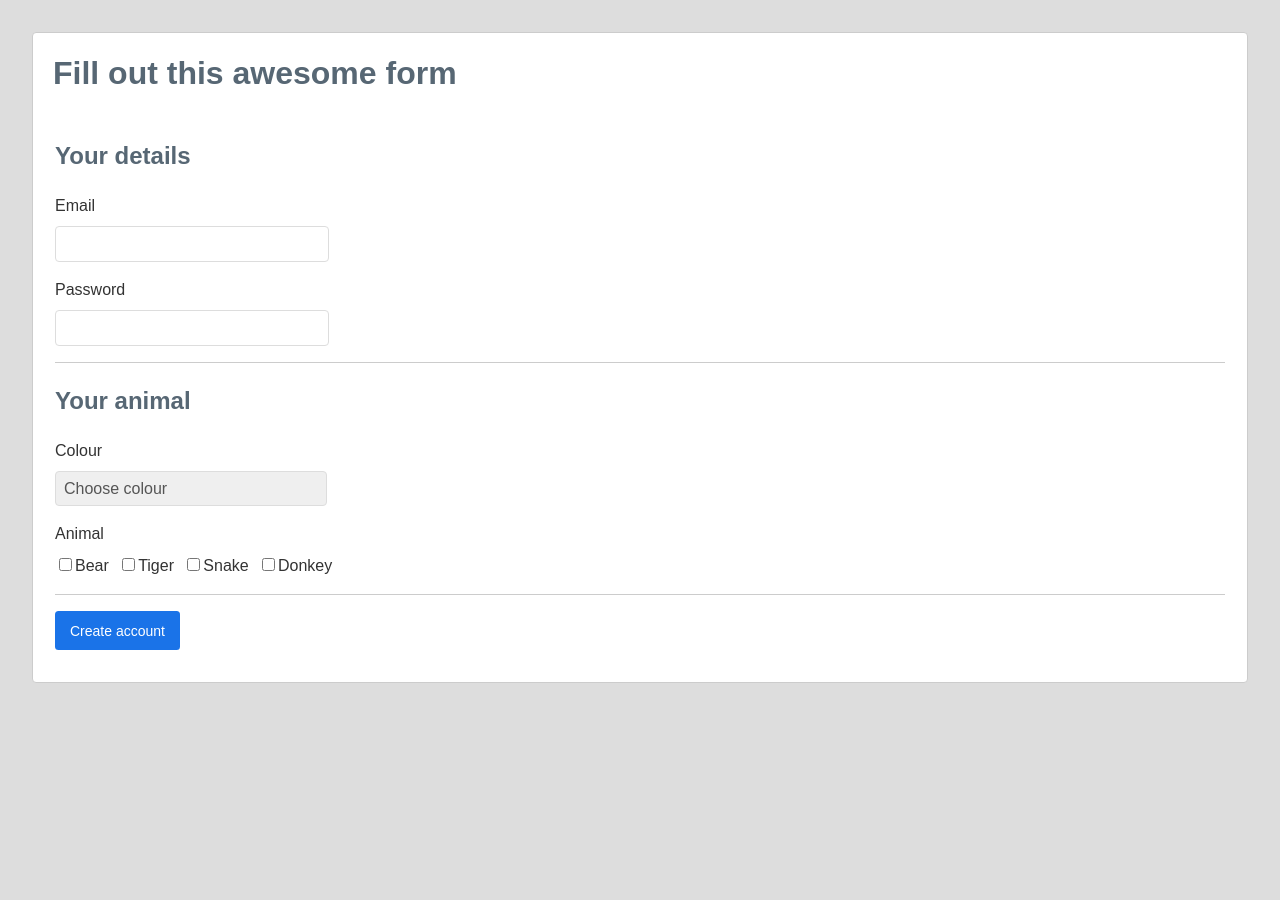
Form validation and error handling › should show an error message when the entered password is less than 8 chars
The image size is (1280, 900).
Type "abcdefg" into the password field labelled "Password" at (192, 328), box x1=55 y1=310 x2=329 y2=346
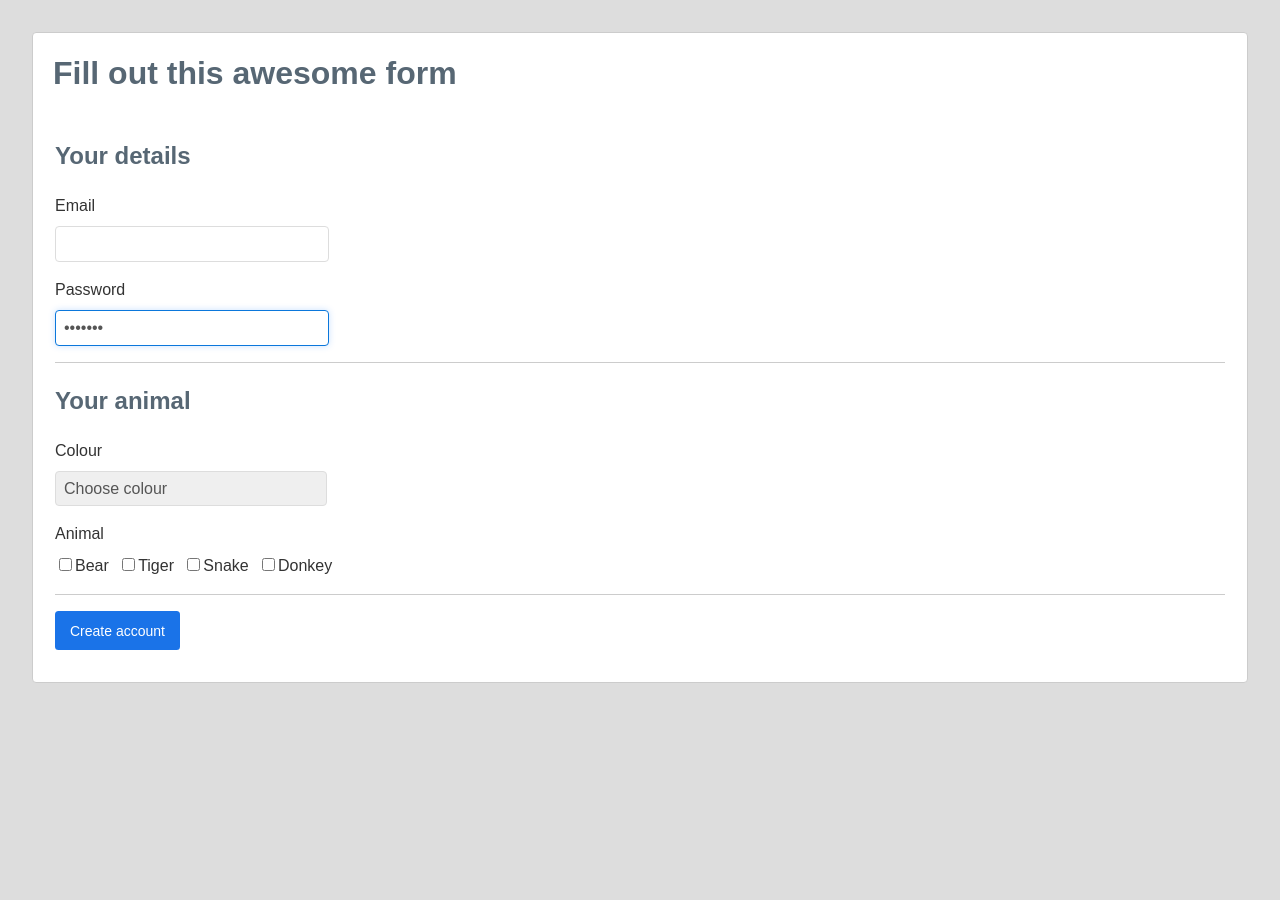
Click the button with test id "submit-button" at (118, 631), box x1=55 y1=611 x2=180 y2=650
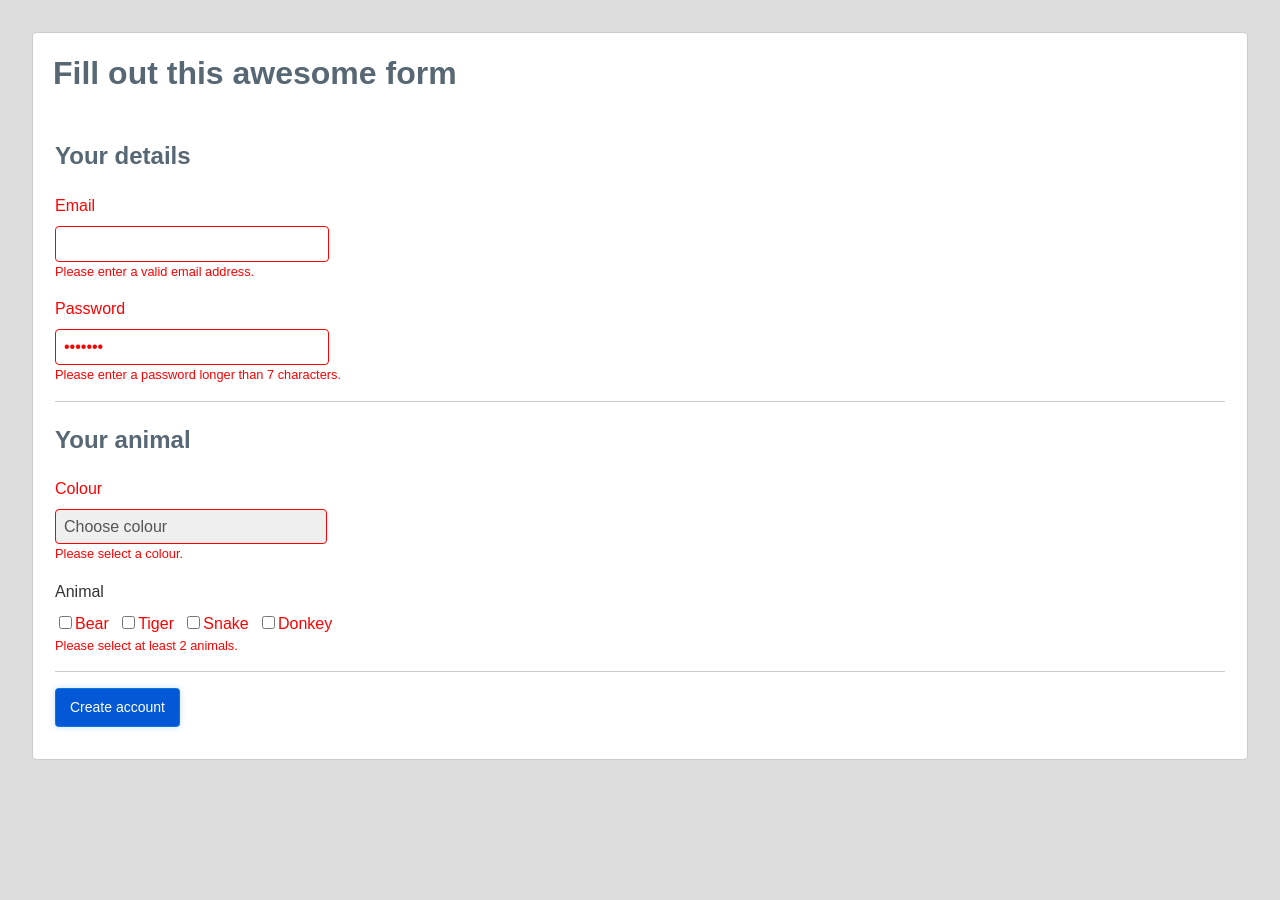
expect the text "Please enter a password longer than 7 characters." is shown: met, box x1=55 y1=367 x2=341 y2=382
